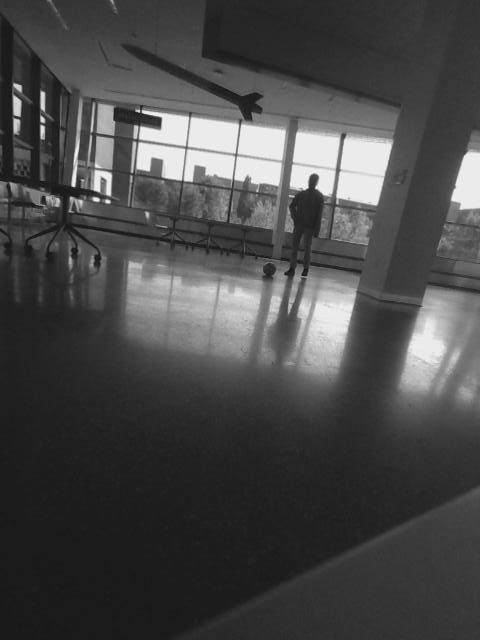ball: (260, 260, 278, 276)
